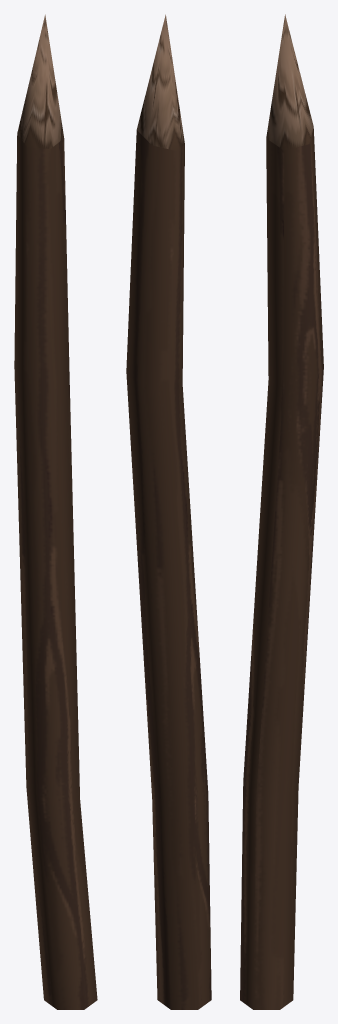
File: SM_PROP_spike_wood_battle.fbx
3 views of the same model, side by side, from view 1: azimuth 90°, elevation 25°; view 2: azimuth 150°, elevation 25°; view 3: azimuth 330°, elevation 25° (orthographic).
Visible parts, largest first — view 1: SM_PROP_spike_wood_battle; view 2: SM_PROP_spike_wood_battle; view 3: SM_PROP_spike_wood_battle.
Part boxes in pixels (bbox=[...]): SM_PROP_spike_wood_battle: bbox=[14, 14, 97, 1009]; SM_PROP_spike_wood_battle: bbox=[126, 14, 211, 1009]; SM_PROP_spike_wood_battle: bbox=[240, 14, 323, 1009].
Bounding box in the file's own units: 10.05 × 149 × 11.43.
